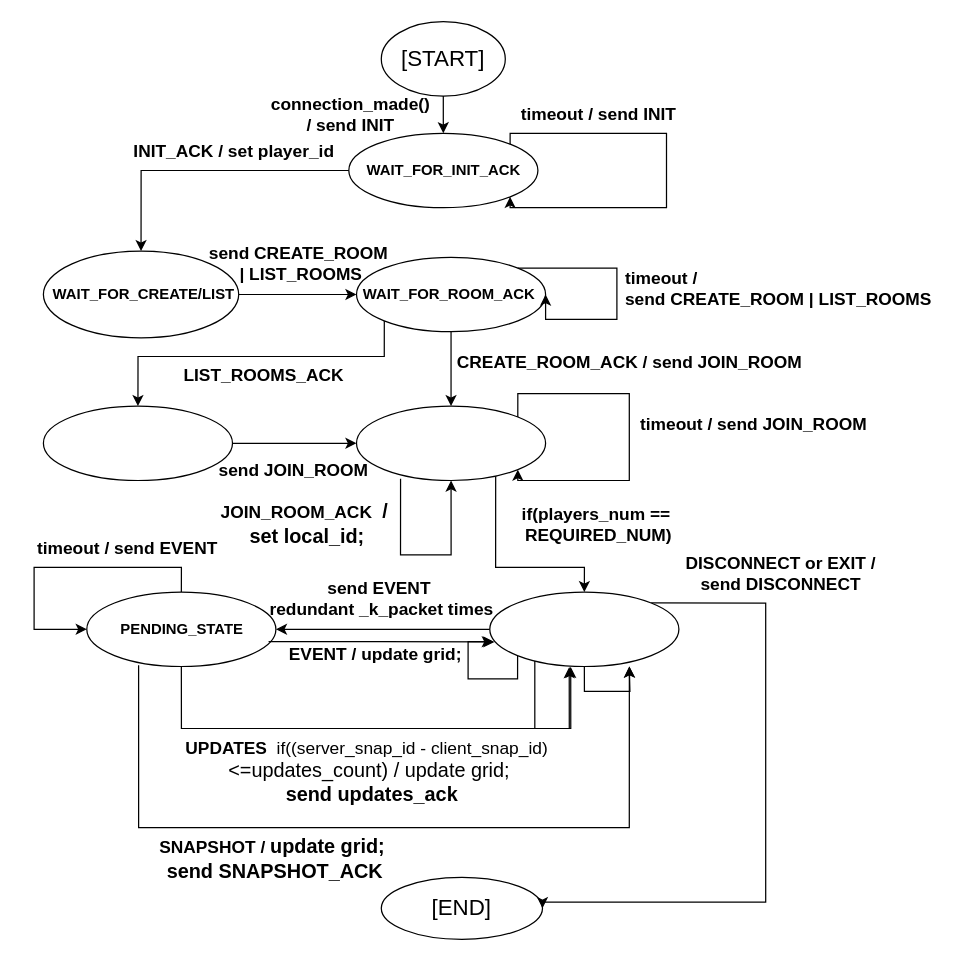
The diagram is 978 pixels wide and 961 high, and some of its shapes have lost their labels. The shapes that lost their labels are listed below. From the top down, each one's centre as x and y in pixels, then its label:
[137,442]: WAIT_FOR_JOIN
[450,442]: WAIT_FOR_JOIN_ACK
[584,628]: PLAYGAME_ACTIVE (IN_ROOM)
